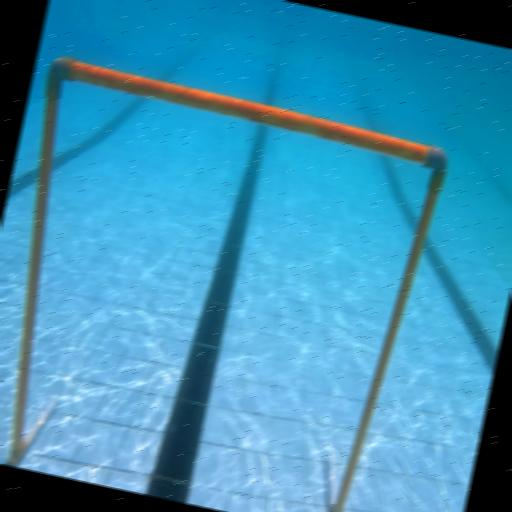gate: (0, 53, 452, 512)
